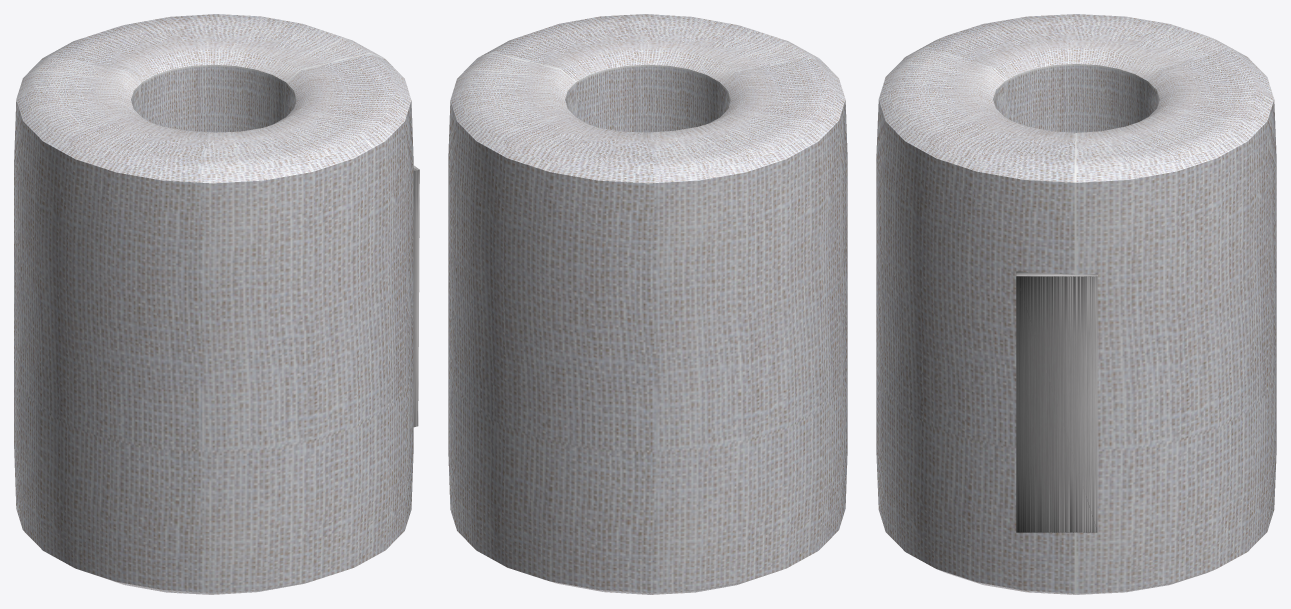
File: Bandage.fbx
The picture shows the model from 3 angles, left to right: view 1: azimuth 30°, elevation 25°; view 2: azimuth 150°, elevation 25°; view 3: azimuth 270°, elevation 25°; orthographic projection.
Parts seen in each view (by area): view 1: Tube001, Box001; view 2: Tube001; view 3: Tube001, Box001.
Boxes of the visible parts, x1,y1,x2,y2 form: Tube001: (14, 14, 413, 594); Box001: (413, 165, 419, 427); Tube001: (448, 14, 847, 594); Tube001: (876, 14, 1276, 594); Box001: (1016, 271, 1097, 532).
Size of the model in its own units: 30.56 by 35.73 by 30.29.
